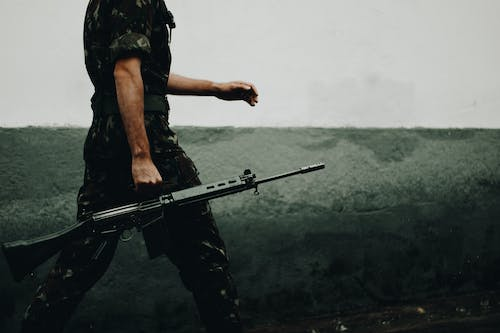gun: (0, 160, 326, 280)
